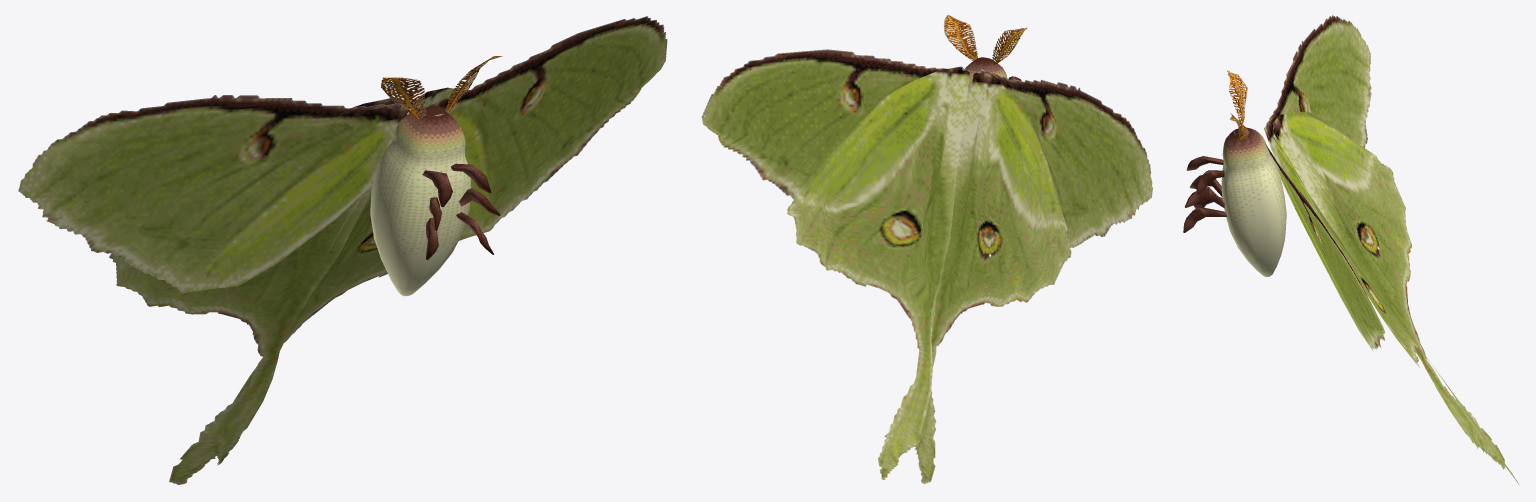
File: LunaMoth.fbx
3 views of the same model, side by side, from view 1: azimuth 30°, elevation 25°; view 2: azimuth 150°, elevation 25°; view 3: azimuth 270°, elevation 25° (orthographic). The views are drawn at different scales.
Parts seen in each view (by area): view 1: TopWing.R, TopWing.L, BottomWing.R, Body, BottomWing.L, Ears, Legs.T, Legs.B, Legs.M; view 2: BottomWing.L, BottomWing.R, TopWing.L, TopWing.R, Ears, Body; view 3: BottomWing.R, TopWing.R, Body, TopWing.L, BottomWing.L, Ears, Legs.T, Legs.M, Legs.B.
Boxes of the visible parts, x1,y1,x2,y2 form: TopWing.R: [18, 95, 407, 293]; TopWing.L: [430, 16, 667, 240]; BottomWing.R: [109, 98, 402, 484]; Body: [370, 105, 471, 296]; BottomWing.L: [216, 87, 465, 465]; Ears: [381, 56, 502, 119]; Legs.T: [422, 163, 491, 206]; Legs.B: [426, 212, 493, 259]; Legs.M: [429, 188, 500, 230]; BottomWing.L: [787, 66, 969, 479]; BottomWing.R: [914, 70, 1071, 484]; TopWing.L: [701, 49, 947, 199]; TopWing.R: [980, 68, 1152, 248]; Ears: [943, 14, 1027, 64]; Body: [964, 57, 1007, 120]; BottomWing.R: [1273, 111, 1505, 469]; TopWing.R: [1264, 15, 1371, 215]; Body: [1221, 127, 1286, 277]; TopWing.L: [1265, 143, 1385, 351]; BottomWing.L: [1272, 136, 1519, 485]; Ears: [1227, 70, 1249, 142]; Legs.T: [1186, 156, 1224, 194]; Legs.M: [1185, 175, 1224, 208]; Legs.B: [1183, 196, 1227, 232].
Size of the model in its own units: 1162 by 899 by 671.
